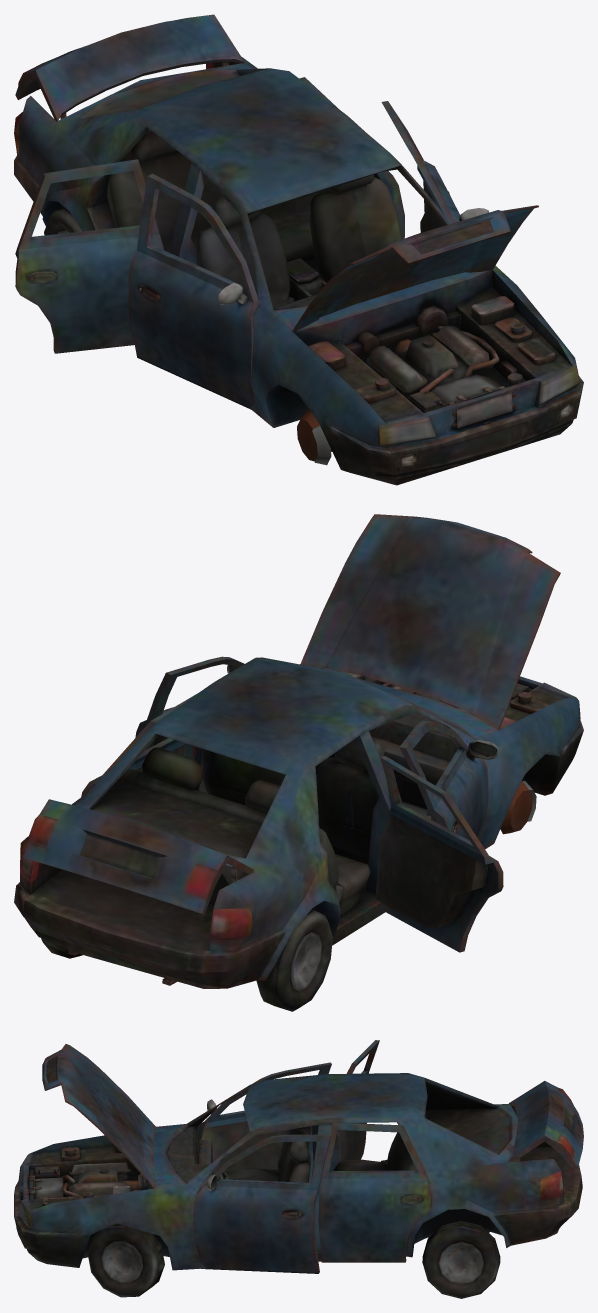
Rendered from car_sedan.glb.
3 renders of one model, top to bottom at view 1: azimuth 30°, elevation 25°; view 2: azimuth 150°, elevation 25°; view 3: azimuth 270°, elevation 25°, orthographic. The views are drawn at different scales.
Parts seen in each view (by area): view 1: KUZA_0, Seats.001_6, ON QAPI_2, ARXA QAPI_3, Engine.001_8, BAQAJ_4, KAPOT_1, ON QAPI.001_12, SALON_5, TEKER.002_15, TEKER.003_11; view 2: KUZA_0, KAPOT_1, Seats.001_6, ARXA QAPI_3, BAQAJ_4, ON QAPI_2, TEKER.003_11, SALON_5, ON QAPI.001_12, TEKER.002_15, Engine.001_8, ARXA QAPI.001_13; view 3: KUZA_0, ON QAPI.001_12, ARXA QAPI.001_13, KAPOT_1, TEKER.001_14, TEKER.004_10, BAQAJ_4, ON QAPI_2, Engine.001_8, Seats.001_6, SALON_5, ARXA QAPI_3.
Part boxes in pixels (x1=…): KUZA_0: x1=14, y1=57, x2=583, y2=485; Seats.001_6: x1=106, y1=130, x2=402, y2=307; ON QAPI_2: x1=128, y1=173, x2=258, y2=409; ARXA QAPI_3: x1=15, y1=159, x2=163, y2=353; Engine.001_8: x1=308, y1=296, x2=555, y2=412; BAQAJ_4: x1=15, y1=14, x2=244, y2=121; KAPOT_1: x1=292, y1=205, x2=538, y2=332; ON QAPI.001_12: x1=381, y1=101, x2=489, y2=232; SALON_5: x1=273, y1=258, x2=326, y2=310; TEKER.002_15: x1=297, y1=411, x2=331, y2=465; TEKER.003_11: x1=44, y1=207, x2=82, y2=235; KUZA_0: x1=14, y1=657, x2=583, y2=988; KAPOT_1: x1=300, y1=514, x2=560, y2=729; Seats.001_6: x1=120, y1=738, x2=430, y2=916; ARXA QAPI_3: x1=375, y1=756, x2=503, y2=952; BAQAJ_4: x1=23, y1=799, x2=253, y2=914; ON QAPI_2: x1=399, y1=720, x2=498, y2=839; TEKER.003_11: x1=256, y1=909, x2=332, y2=1011; SALON_5: x1=319, y1=713, x2=457, y2=828; ON QAPI.001_12: x1=135, y1=656, x2=244, y2=793; TEKER.002_15: x1=500, y1=780, x2=536, y2=834; Engine.001_8: x1=322, y1=668, x2=550, y2=728; ARXA QAPI.001_13: x1=81, y1=693, x2=197, y2=796; KUZA_0: x1=14, y1=1073, x2=582, y2=1270; ON QAPI.001_12: x1=193, y1=1134, x2=331, y2=1273; ARXA QAPI.001_13: x1=318, y1=1123, x2=431, y2=1262; KAPOT_1: x1=42, y1=1044, x2=156, y2=1188; TEKER.001_14: x1=422, y1=1220, x2=500, y2=1298; TEKER.004_10: x1=87, y1=1223, x2=164, y2=1297; BAQAJ_4: x1=508, y1=1081, x2=583, y2=1169; ON QAPI_2: x1=197, y1=1062, x2=331, y2=1182; Engine.001_8: x1=34, y1=1146, x2=148, y2=1205; Seats.001_6: x1=222, y1=1109, x2=426, y2=1182; SALON_5: x1=167, y1=1125, x2=236, y2=1193; ARXA QAPI_3: x1=329, y1=1040, x2=379, y2=1170.
Bounding box in the file's own units: 2.81 × 1.71 × 4.7.
Materials: 1 (1 with a texture image).
